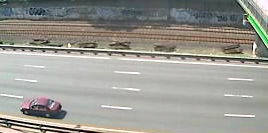car: (18, 96, 69, 120)
